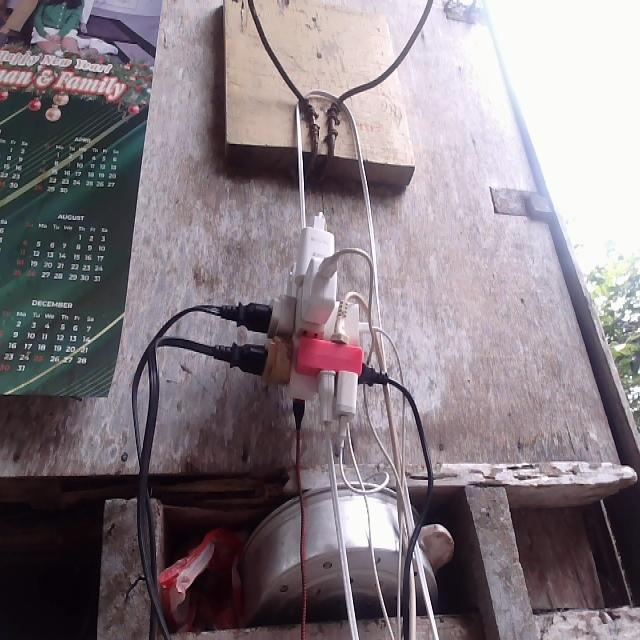-: (229, 214, 390, 446)
